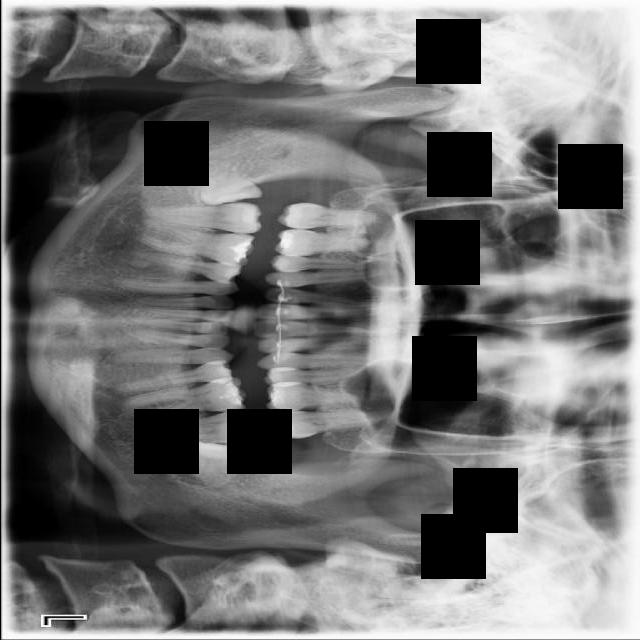52: (203, 225, 255, 270), (203, 375, 246, 414)
73: (64, 612, 77, 614)
BioHorizons Implant: (268, 409, 385, 441)
Biomet 3i Implant: (180, 439, 243, 489)
Blue Sky Bio Implant: (144, 408, 256, 457)
Caries: (276, 200, 384, 230)
Implant: (146, 201, 262, 239)
Keystone Dental Implant: (194, 156, 262, 208)
